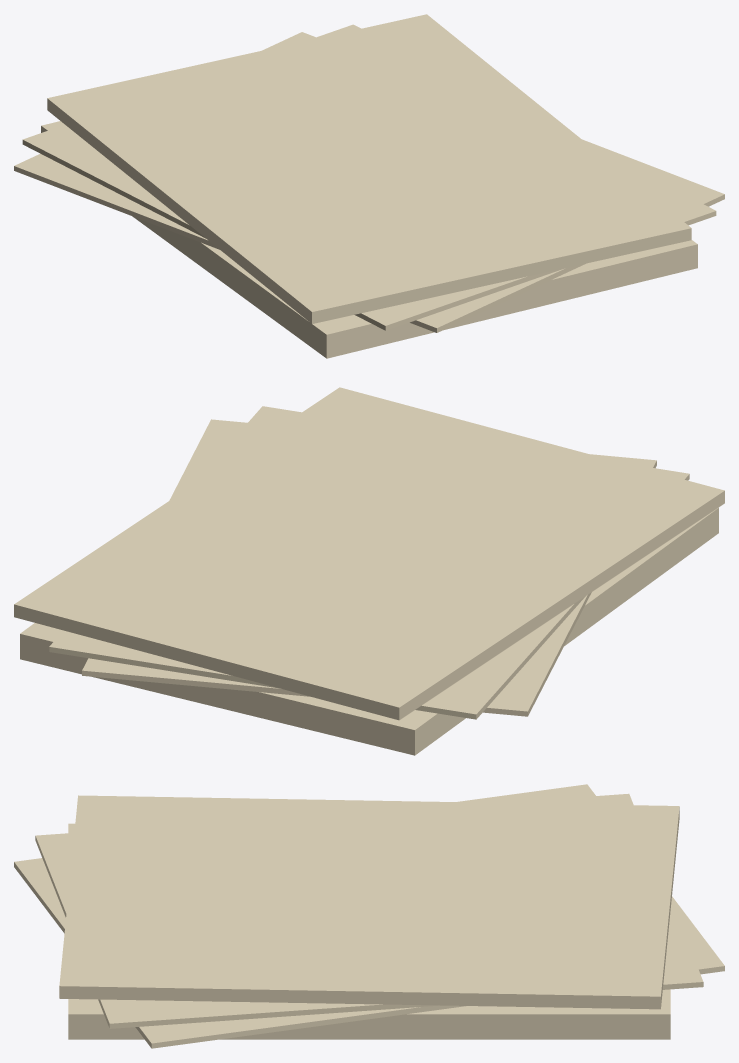
Rendered from Papeis.fbx.
The picture shows the model from 3 angles, top to bottom: view 1: azimuth 30°, elevation 25°; view 2: azimuth 150°, elevation 25°; view 3: azimuth 270°, elevation 25°; orthographic projection. The views are drawn at different scales.
Visible parts, largest first — view 1: Papeis.003, Papeis.000, Papeis.002, Papeis.001; view 2: Papeis.003, Papeis.000, Papeis.002, Papeis.001; view 3: Papeis.003, Papeis.000, Papeis.002, Papeis.001.
Boxes of the visible parts, x1=… form: Papeis.003: x1=47, y1=14, x2=691, y2=323; Papeis.000: x1=41, y1=121, x2=697, y2=358; Papeis.002: x1=22, y1=24, x2=716, y2=330; Papeis.001: x1=14, y1=32, x2=724, y2=332; Papeis.003: x1=14, y1=387, x2=724, y2=720; Papeis.000: x1=20, y1=507, x2=718, y2=755; Papeis.002: x1=49, y1=406, x2=689, y2=719; Papeis.001: x1=82, y1=419, x2=656, y2=716; Papeis.003: x1=59, y1=795, x2=679, y2=1009; Papeis.000: x1=68, y1=823, x2=670, y2=1039; Papeis.002: x1=35, y1=793, x2=703, y2=1028; Papeis.001: x1=14, y1=784, x2=724, y2=1048.
Size of the model in its own units: 28.54 by 2.47 by 33.07.
